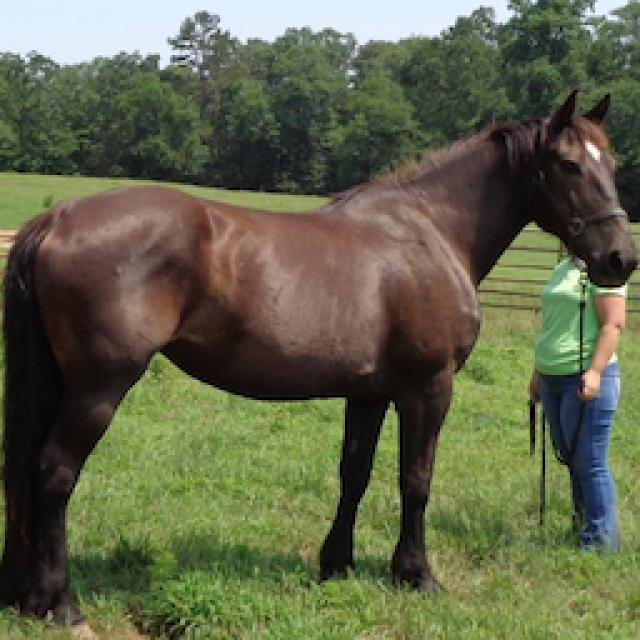Horse: (0, 82, 638, 638)
